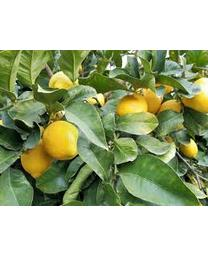lemon: (41, 120, 83, 160), (21, 140, 53, 180), (115, 94, 149, 117)
